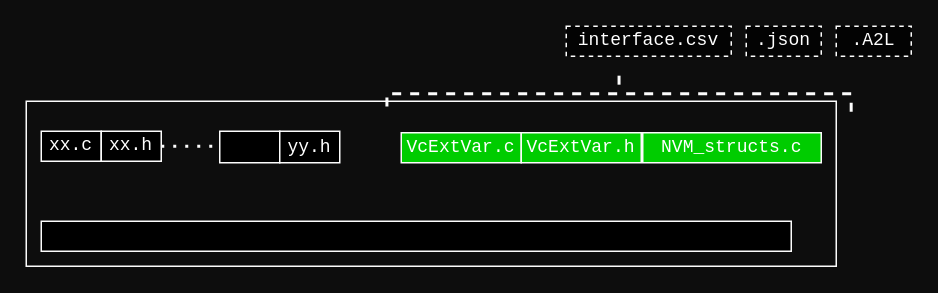
Some shapes in this 938 by 293 pixel diagram are drawn without their labels. Each missing label, with the centre of its shape:
Supplier-sw: (x=415, y=235)
yy.c: (x=249, y=146)
